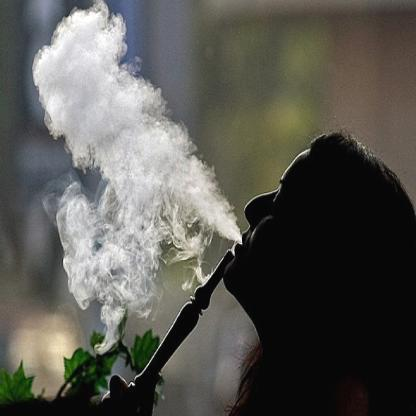smoke: (59, 154, 199, 310), (32, 14, 156, 153)
